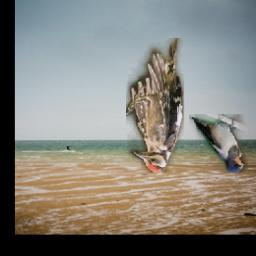Swallow: (189, 115, 248, 173)
Woodpecker: (125, 39, 183, 173)
